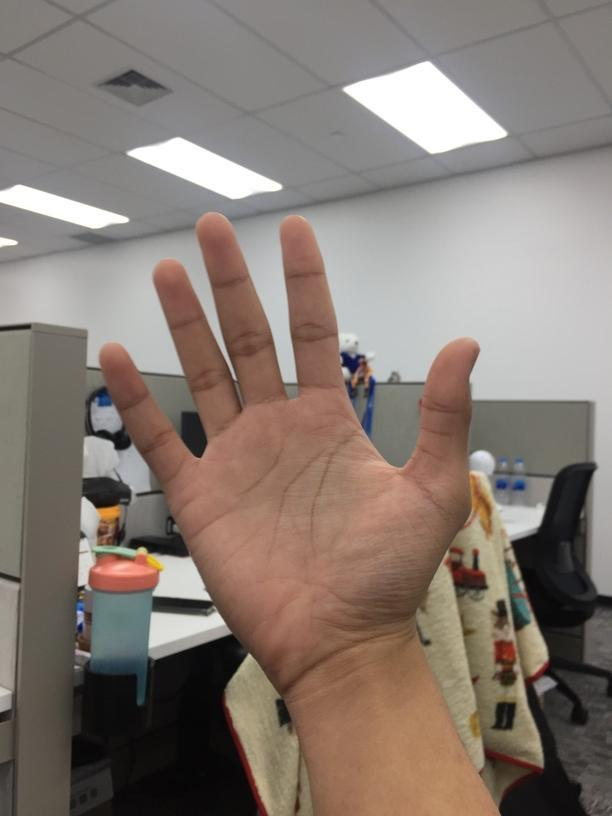hand: (97, 208, 485, 662)
